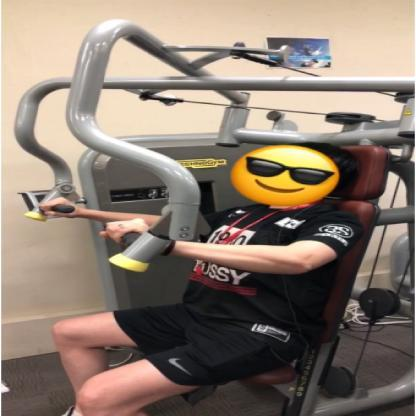Chest Press machine: (13, 17, 415, 416)
